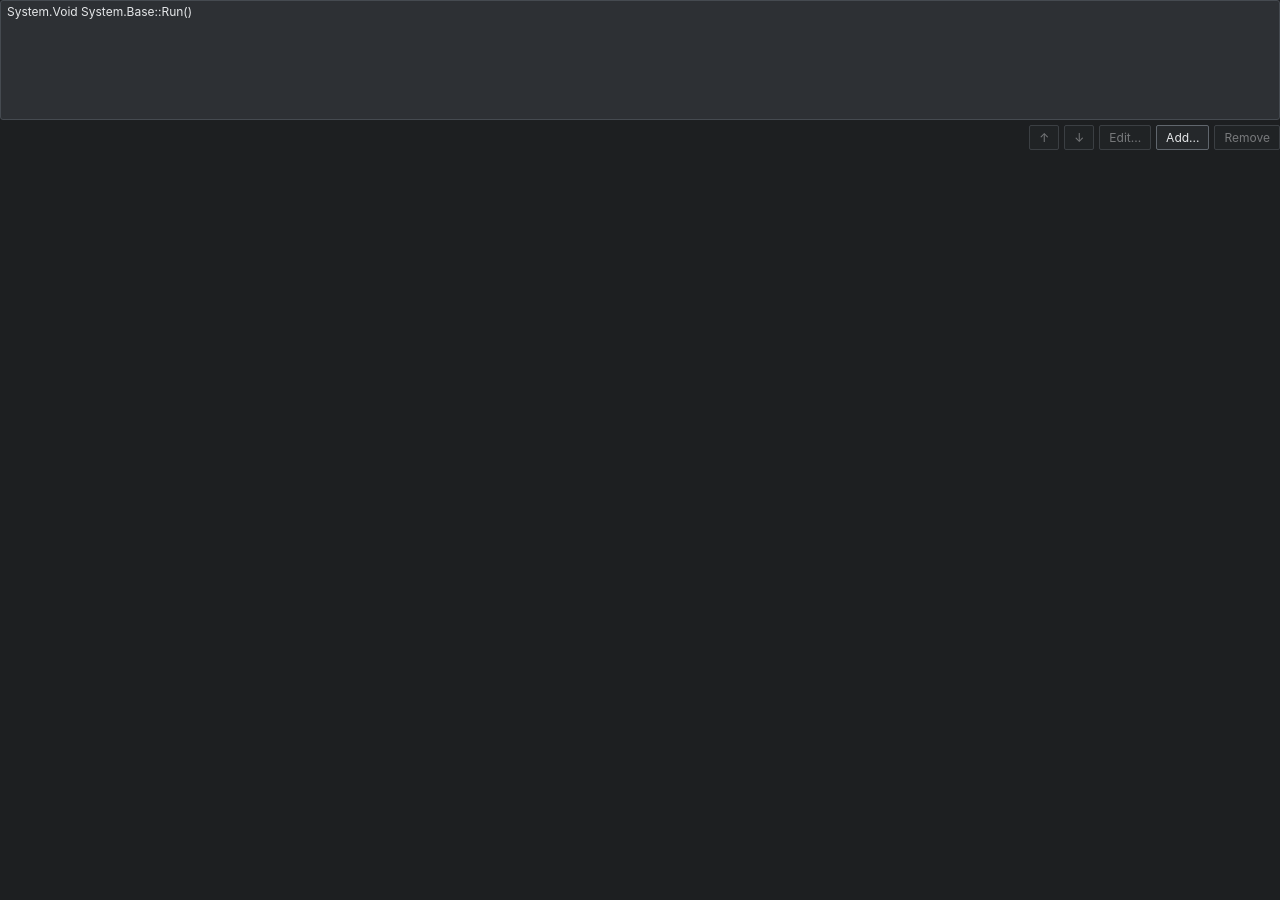
it: MethodOverrideListEditor › points an existing row at another method and keeps the body it came with
What coordinates should you click on to do the following:
click the option with class "list-editor-row"
I would click on:
 (100, 12)
Its box is [7,4,192,19].
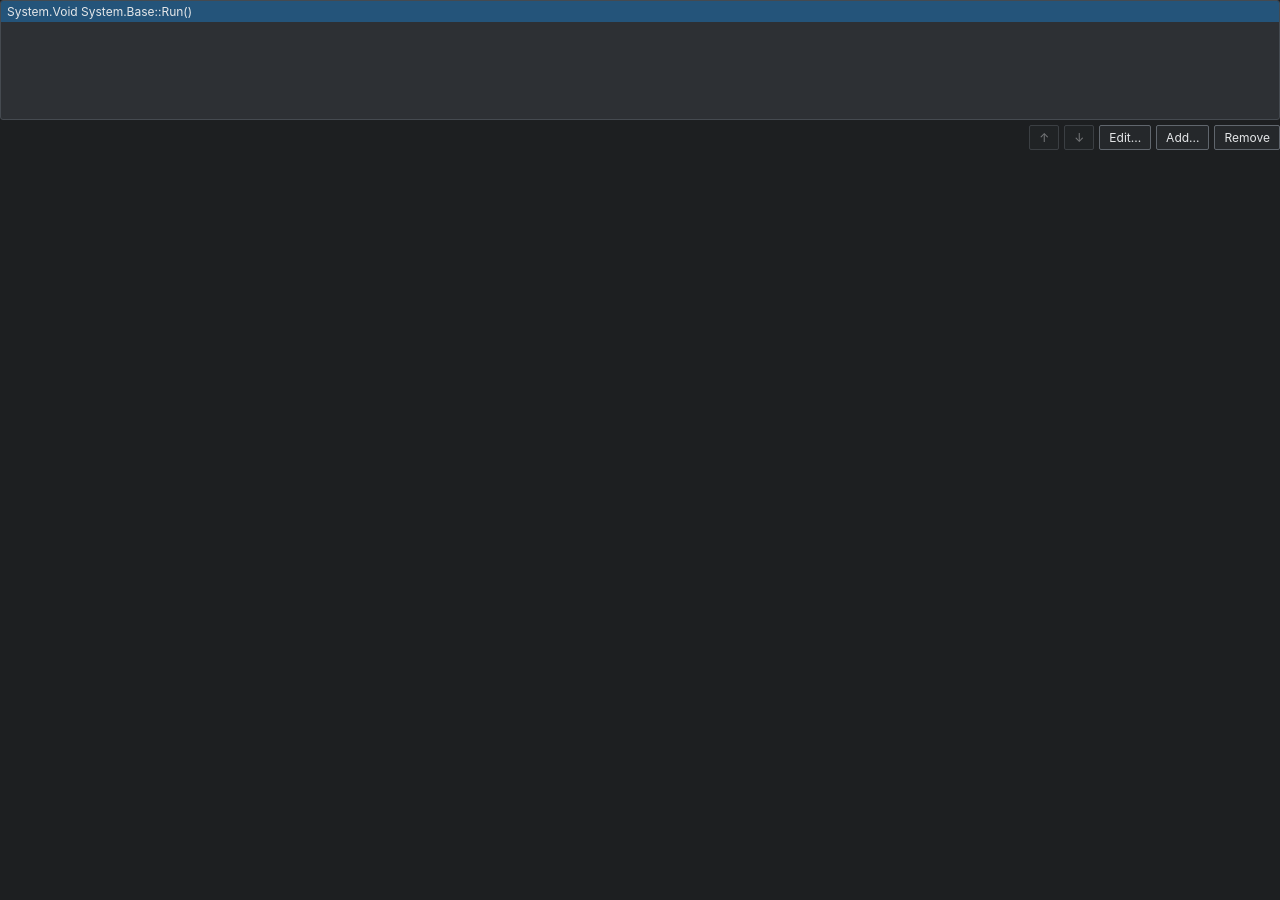
What coordinates should you click on to do the following:
click the button "Edit..."
I would click on:
 (1125, 138)
Its box is [1099,125,1151,150].
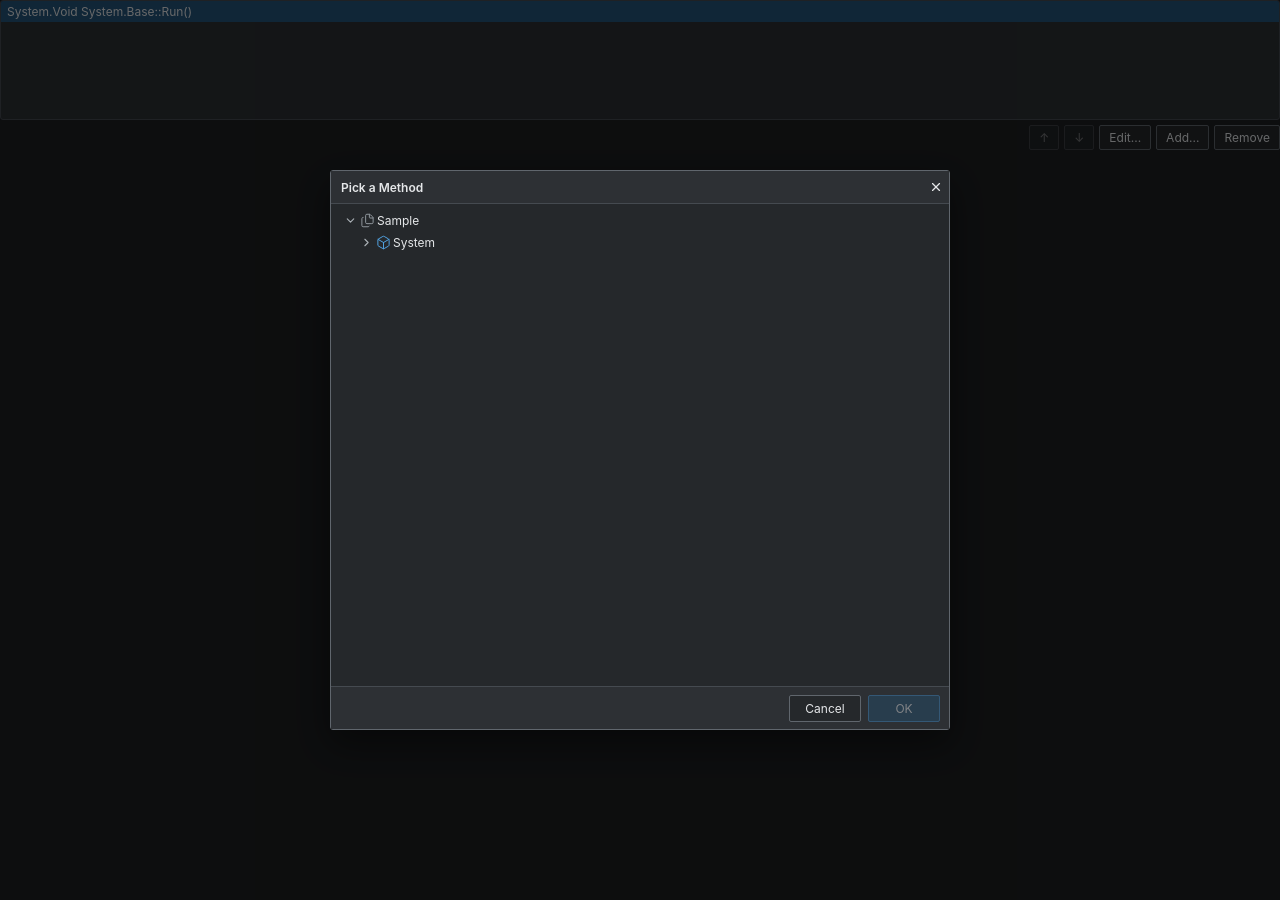
Result: the text "Sample" is shown at [377,212,419,228]
What coordinates should you click on to do the following:
click the button named "Expand"
I would click on:
 (366, 242)
Its box is [358,233,374,251].
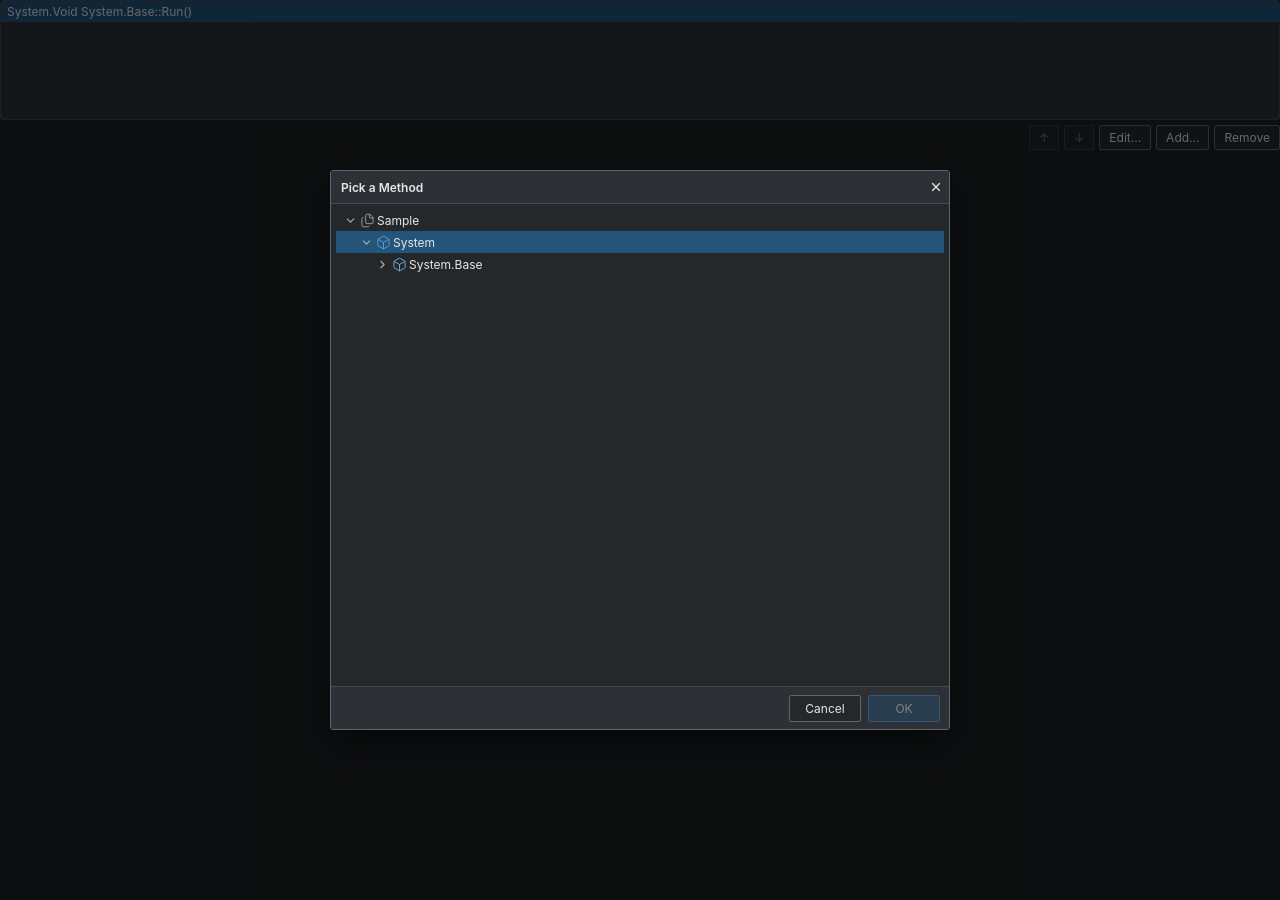
Result: the text "System.Base" is shown at [409,256,482,272]
What coordinates should you click on to do the following:
click the button named "Expand"
I would click on:
 (382, 264)
Its box is [374,255,390,273].
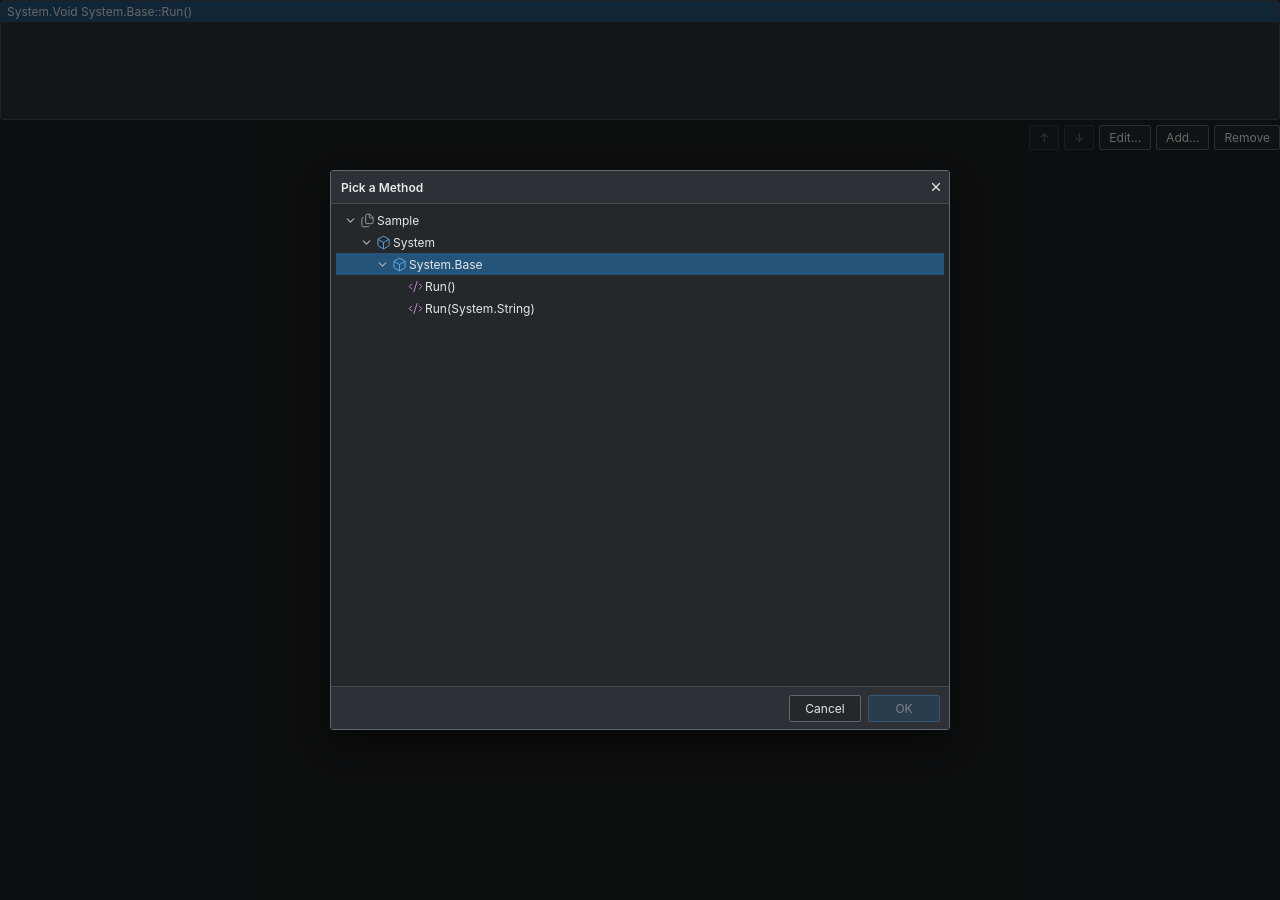
What coordinates should you click on to do the following:
click the text "Run(System.String)"
I would click on:
 (480, 308)
Its box is [425,300,535,316].
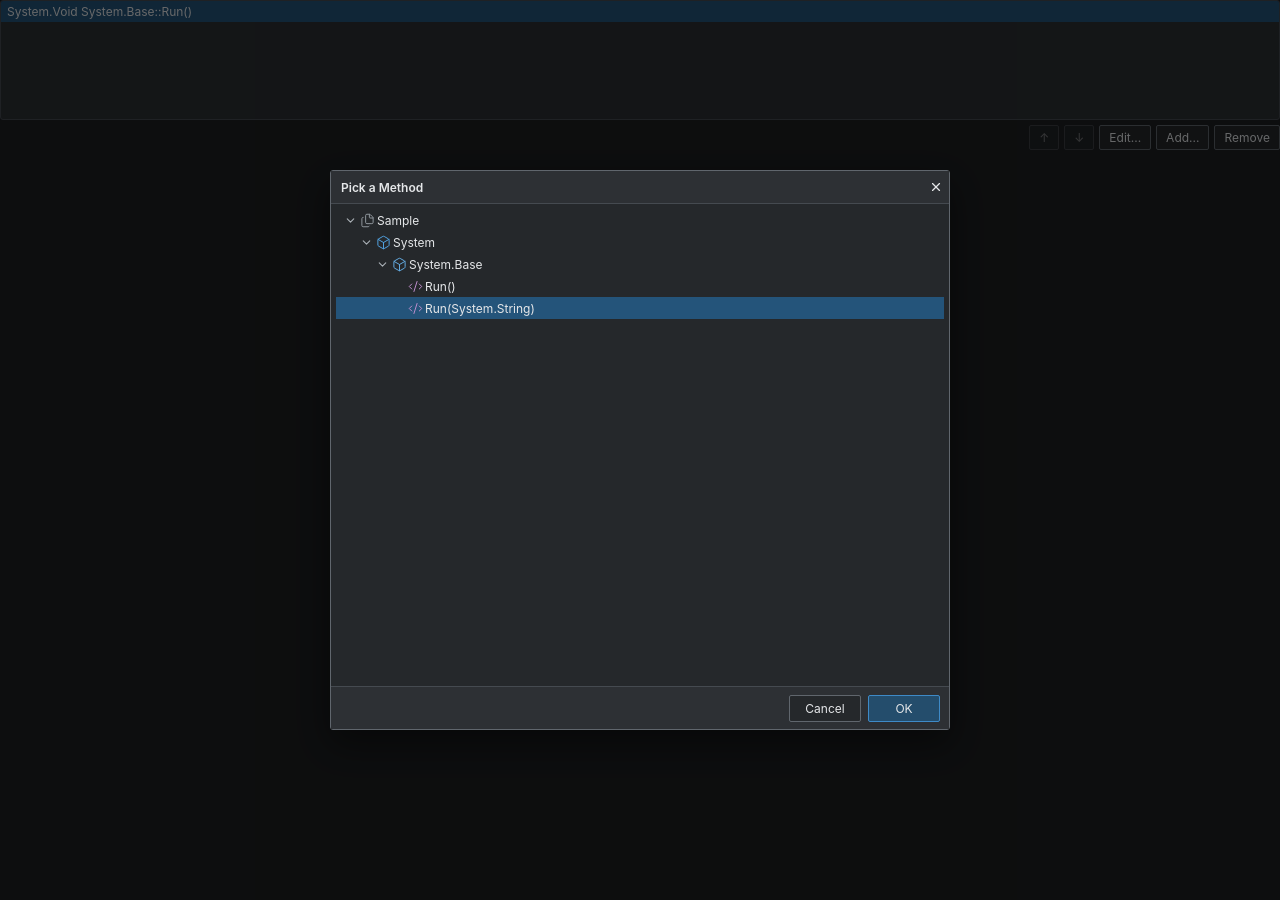
What coordinates should you click on to do the following:
click the button "OK"
I would click on:
 (904, 708)
Its box is [868,694,940,722].
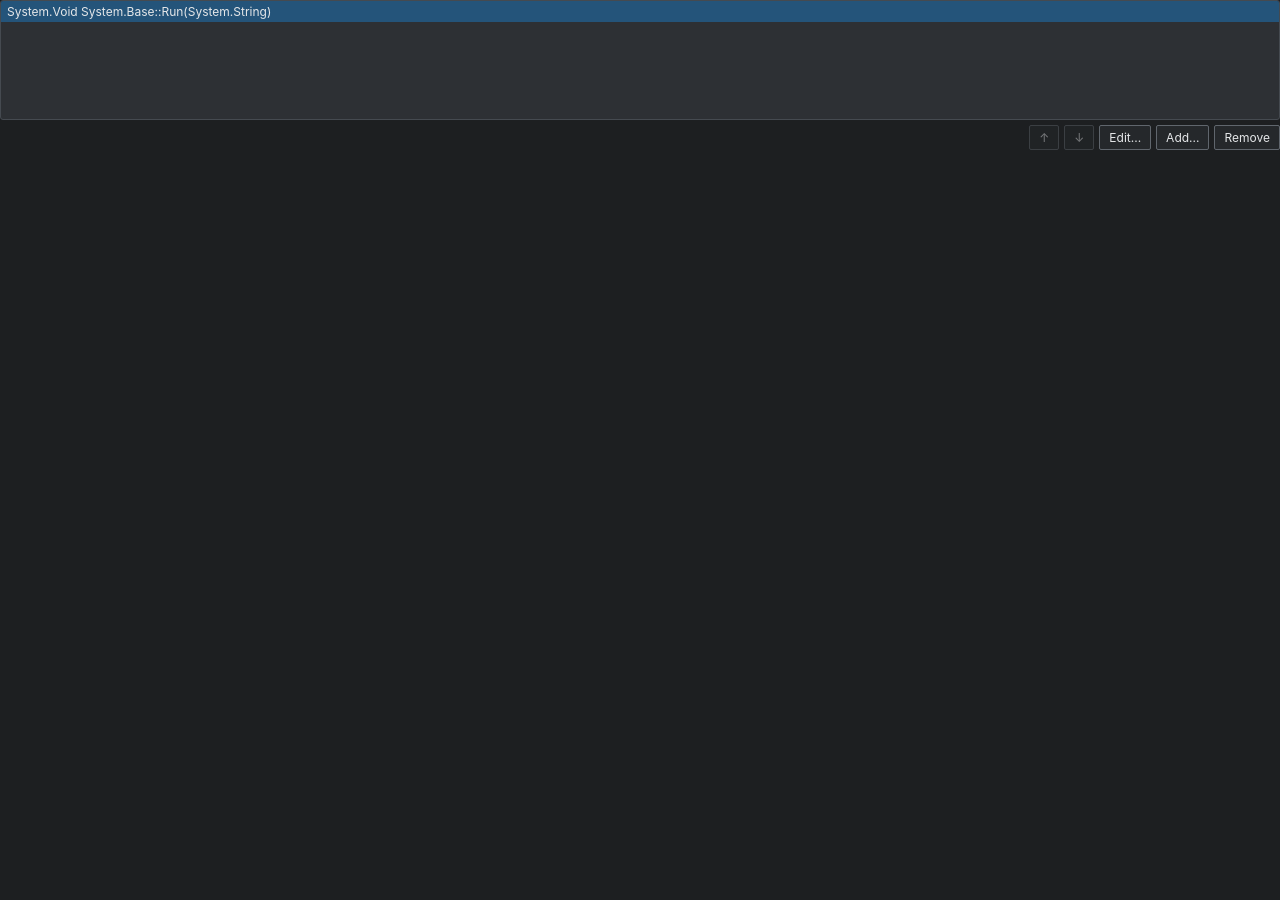
Result: the text "Pick a Method" is gone
